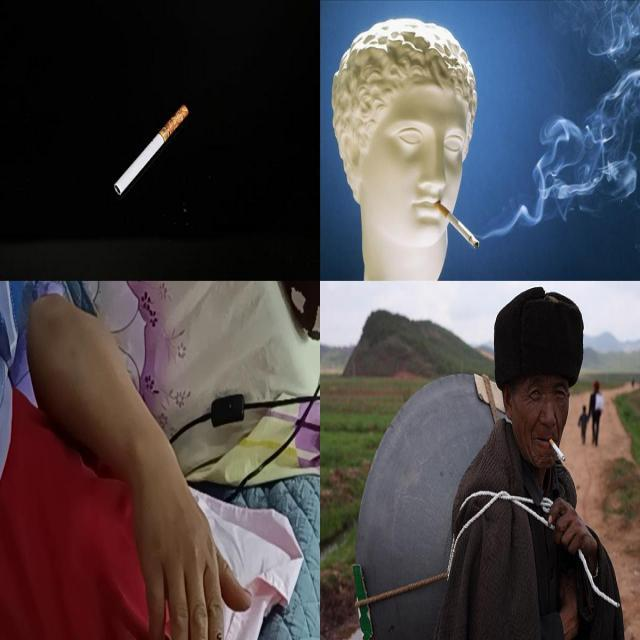smoke: (110, 102, 190, 194), (432, 195, 480, 258), (548, 438, 566, 462)
